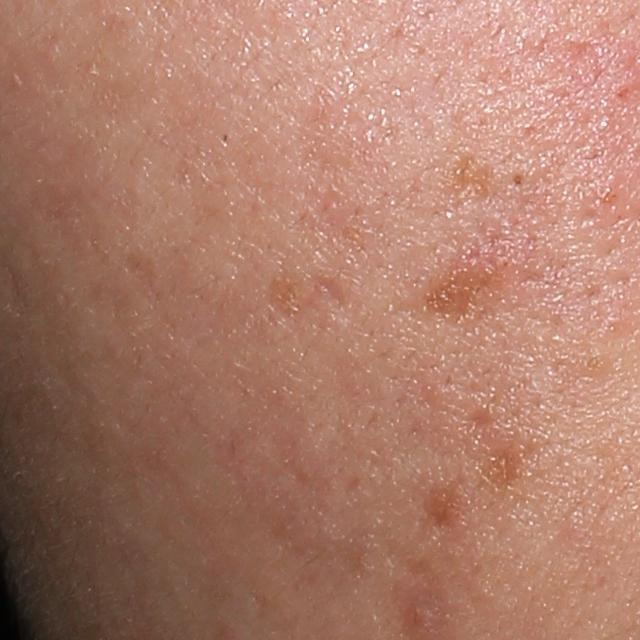atrophic_scar: (479, 444, 530, 483), (316, 273, 349, 313), (461, 408, 493, 438)
comedo: (505, 170, 531, 193)
papule: (399, 593, 440, 637)
